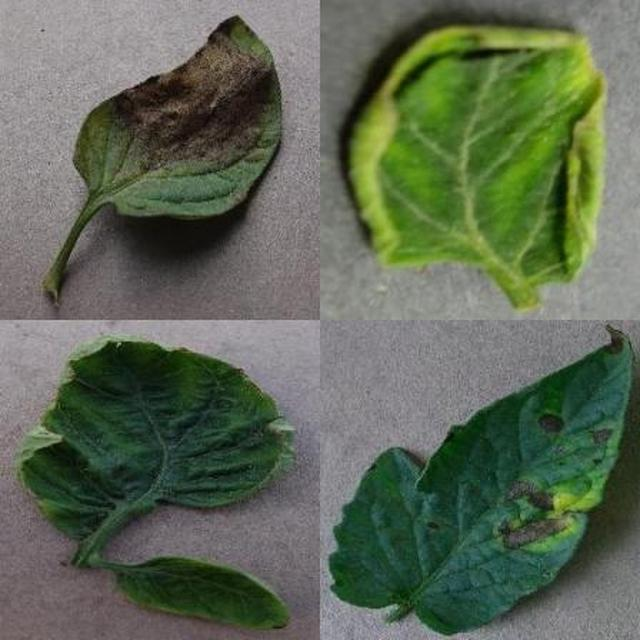Late Blight Leaf: (227, 110, 640, 640)
